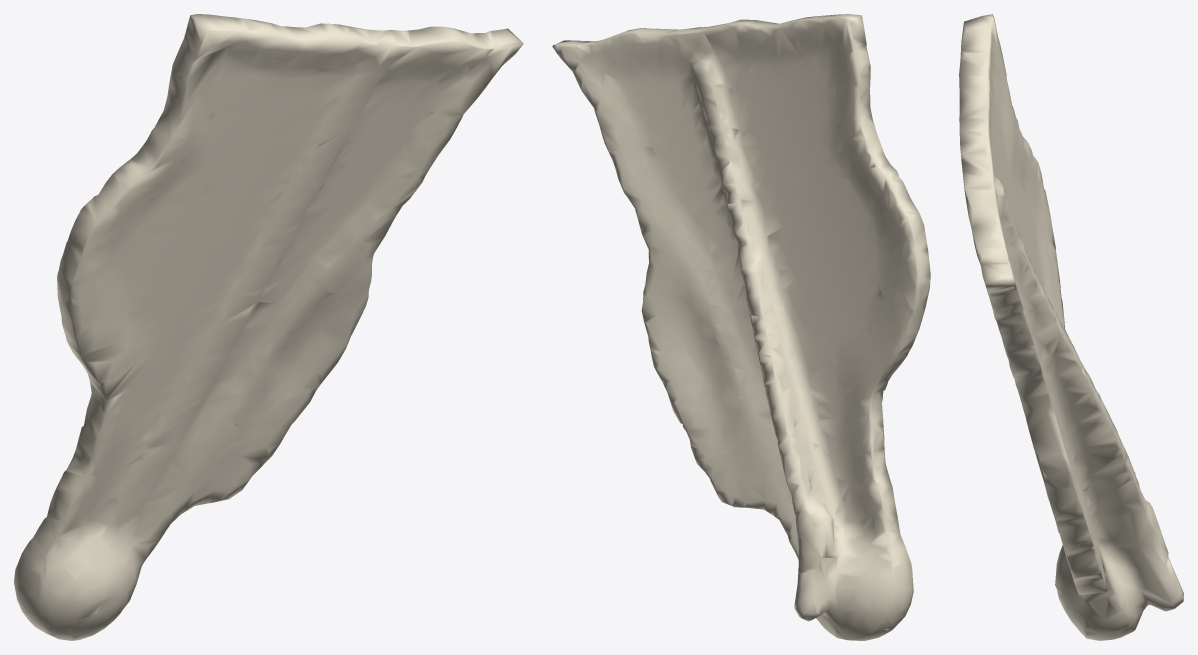
File: scapula_r.glb
3 renders of one model, left to right at view 1: azimuth 30°, elevation 25°; view 2: azimuth 150°, elevation 25°; view 3: azimuth 270°, elevation 25°, orthographic. The views are drawn at different scales.
Parts seen in each view (by area): view 1: geometry_0; view 2: geometry_0; view 3: geometry_0.
Boxes of the visible parts, x1,y1,x2,y2 form: geometry_0: [14, 14, 523, 640]; geometry_0: [552, 14, 930, 640]; geometry_0: [959, 14, 1183, 640].
Size of the model in its own units: 0.5235 by 0.7242 by 0.2265.
